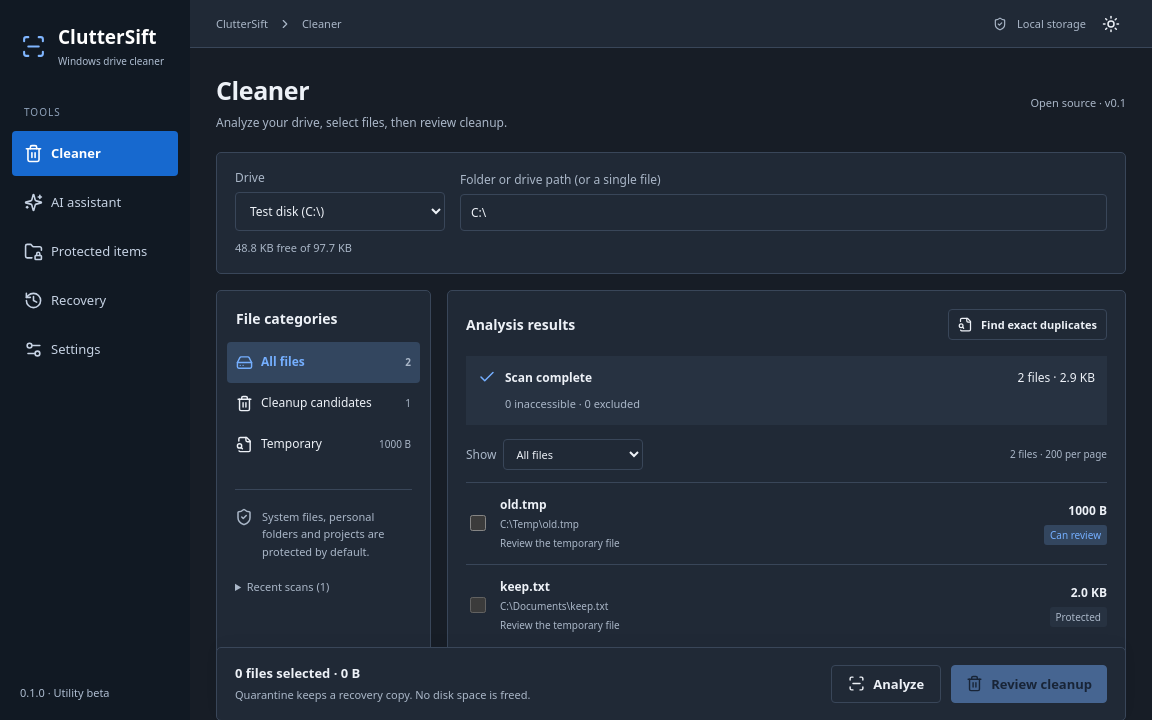
review workflow › requires confirmation for a locally interpreted protection goal
Click the button "AI assistant" at (95, 202), box [12, 180, 178, 225]
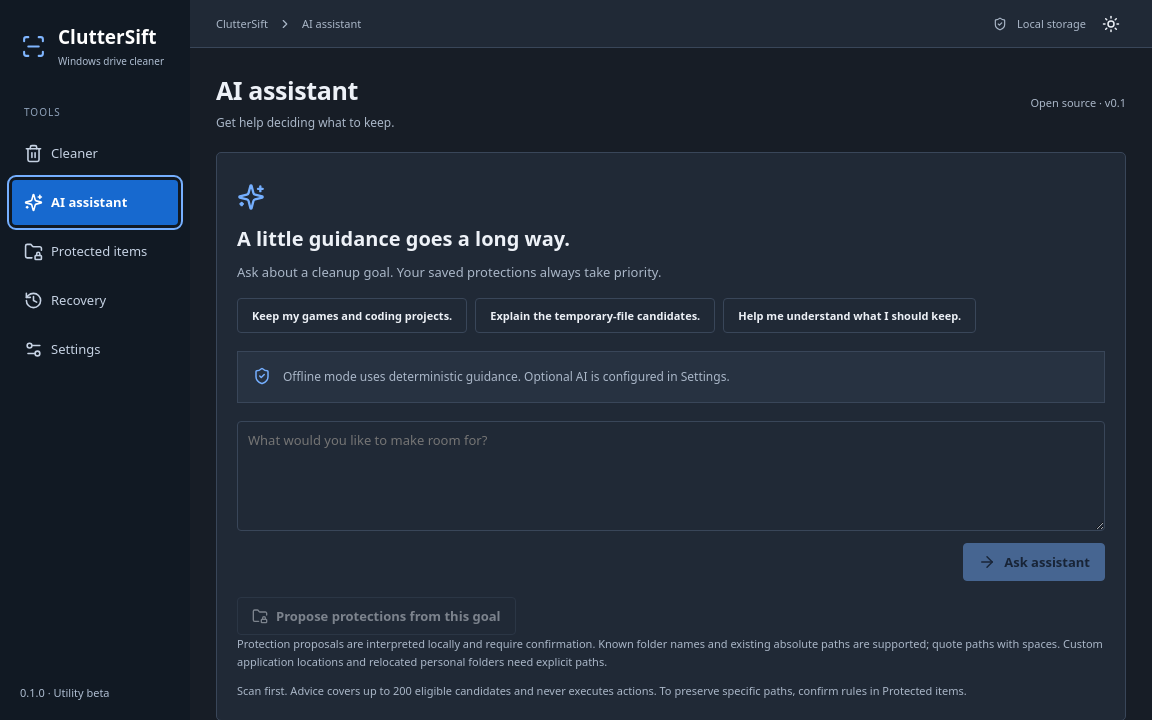
Type "Keep C:\\Fixture" into the text box named "Cleanup goal" at (671, 476), box [237, 421, 1105, 531]
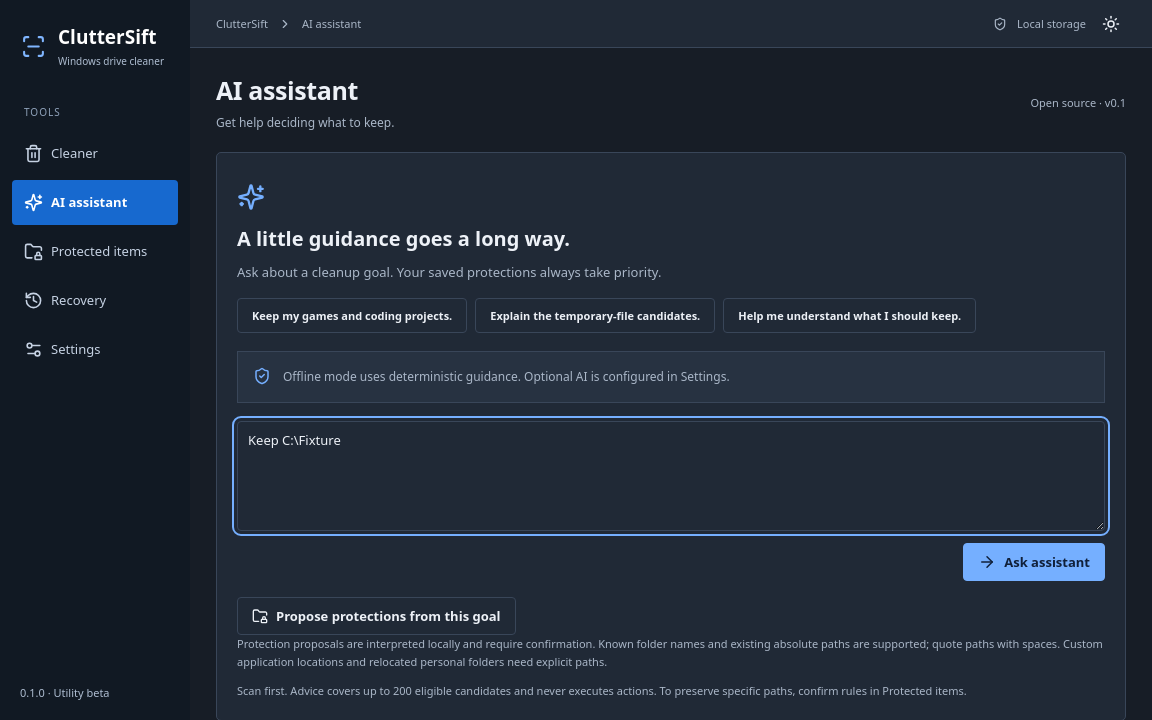
Click the button "Propose protections from this goal" at (376, 616), box [237, 597, 516, 635]
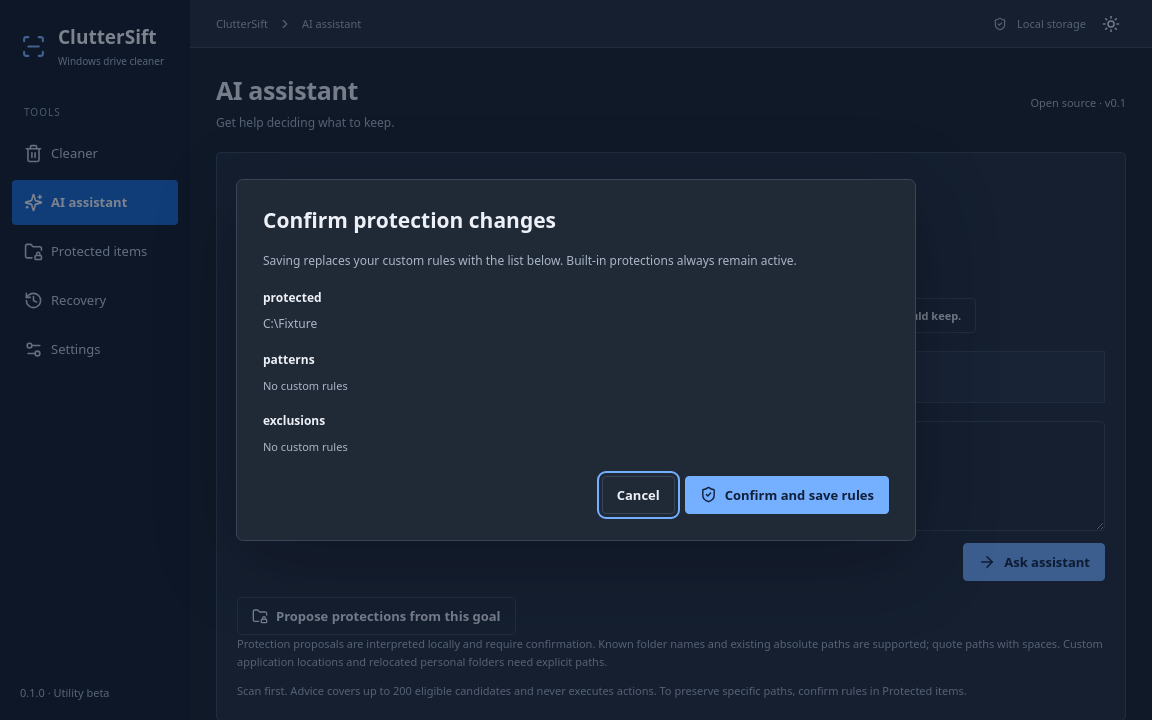
expect the dialog "Confirm protection changes" is shown: met, box [236, 179, 916, 541]
